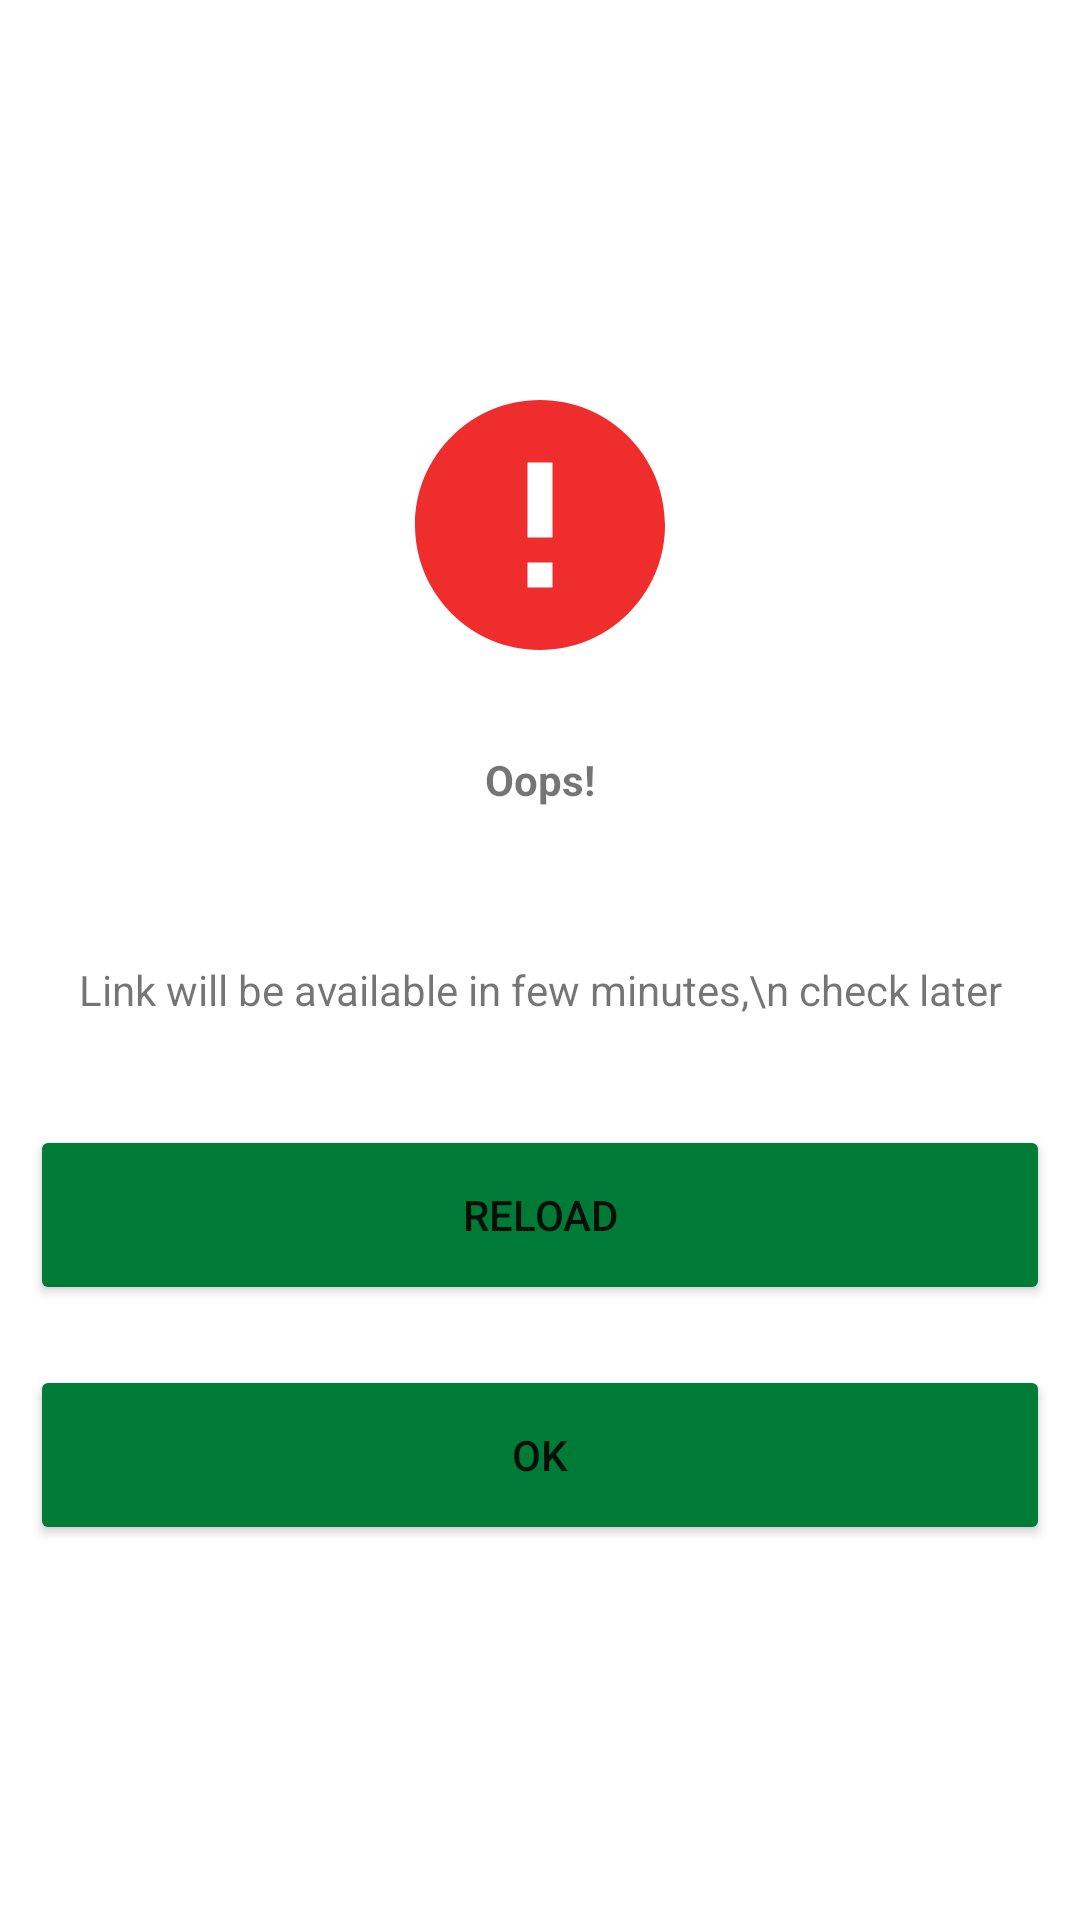

Icons on this 1080x1920 Android screen, each with its box as box=[x1, y1, x2, y2]:
error: box=[415, 400, 665, 650]
